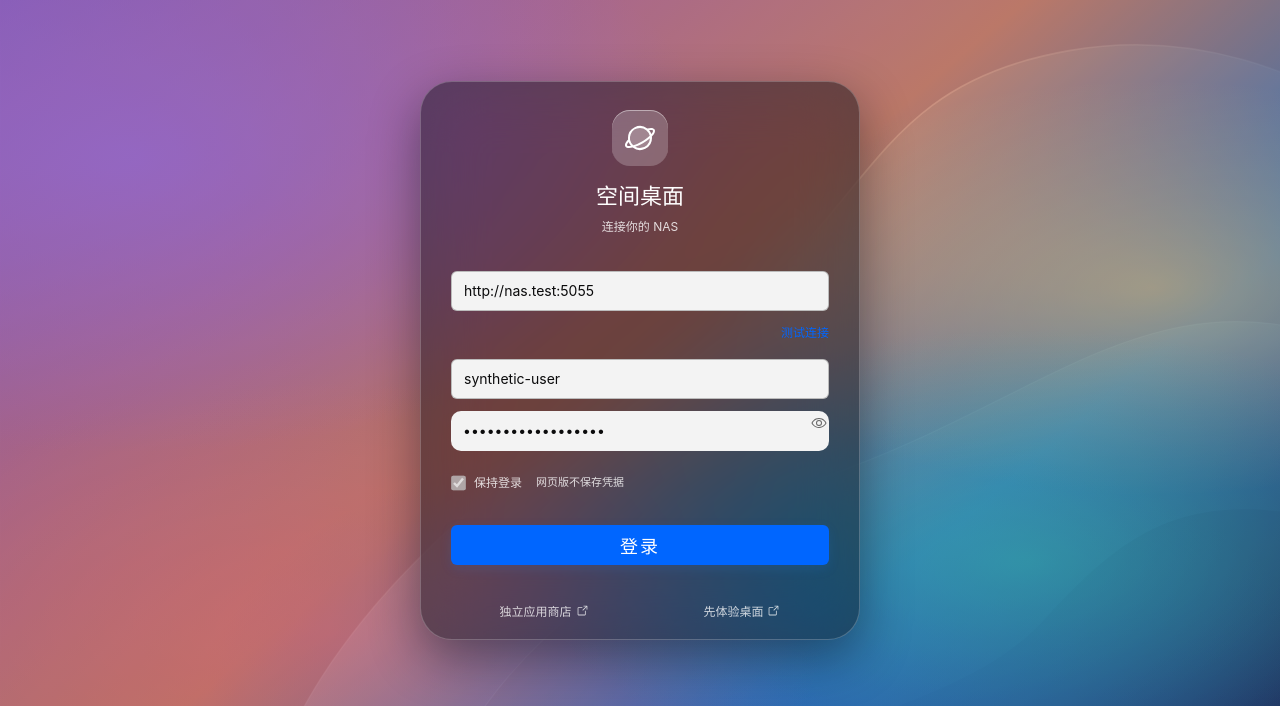
Test case: clears verification when account or device changes and ignores stale replies
Click the button "登录": (640, 544) top-left (451, 524), bottom-right (829, 564)
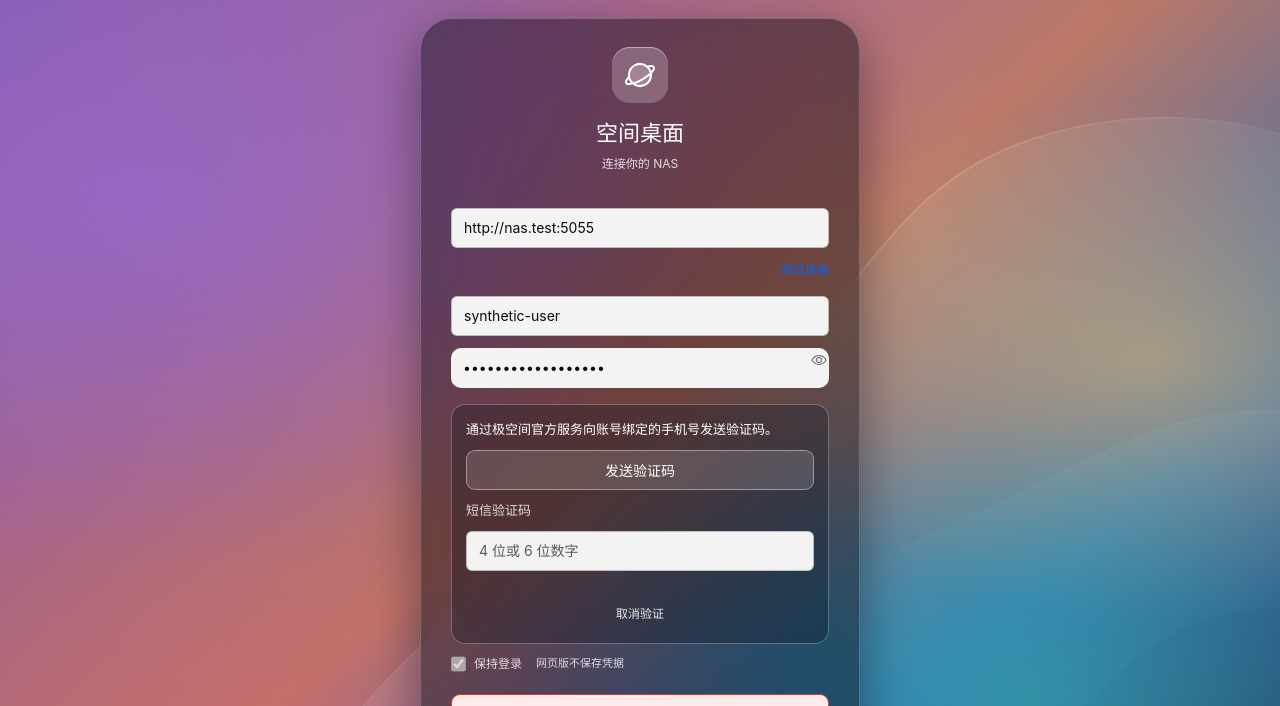
Expected: the button "发送验证码" is shown
Click the button "发送验证码": (640, 470) top-left (466, 450), bottom-right (814, 490)
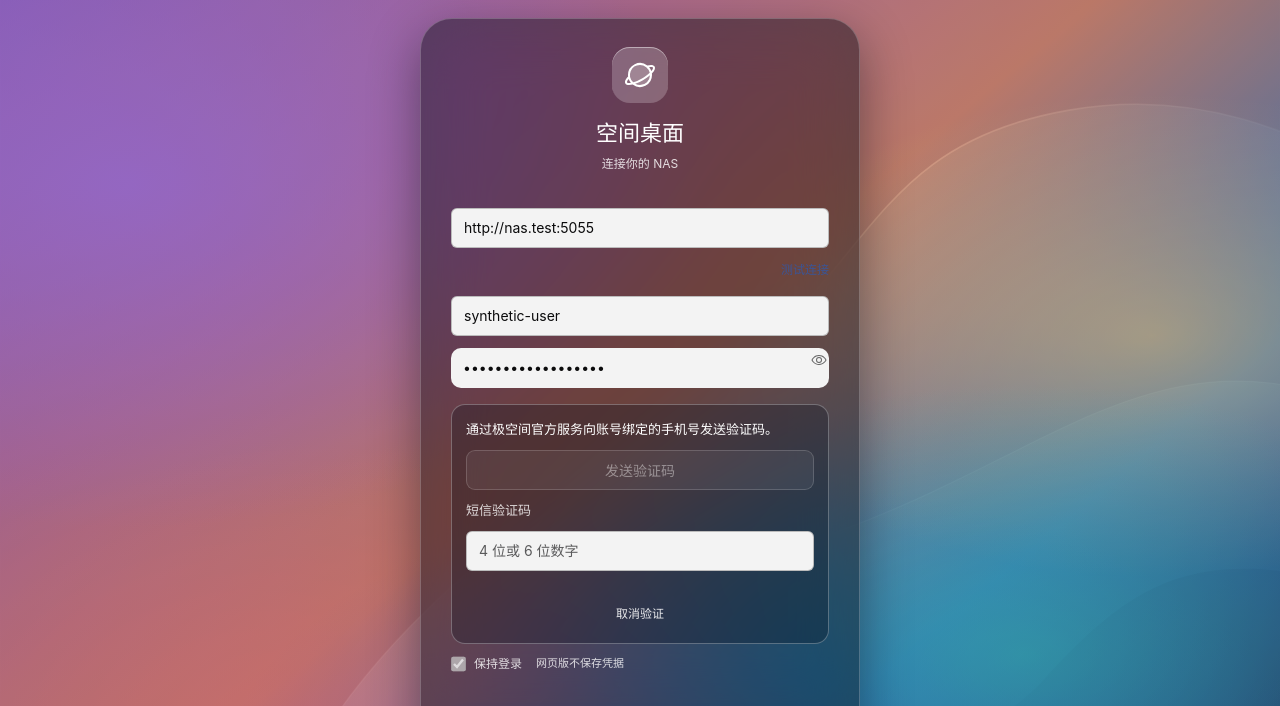
Replace the text in the 2nd field named "账号" with "other-user": (640, 316) top-left (451, 296), bottom-right (829, 336)
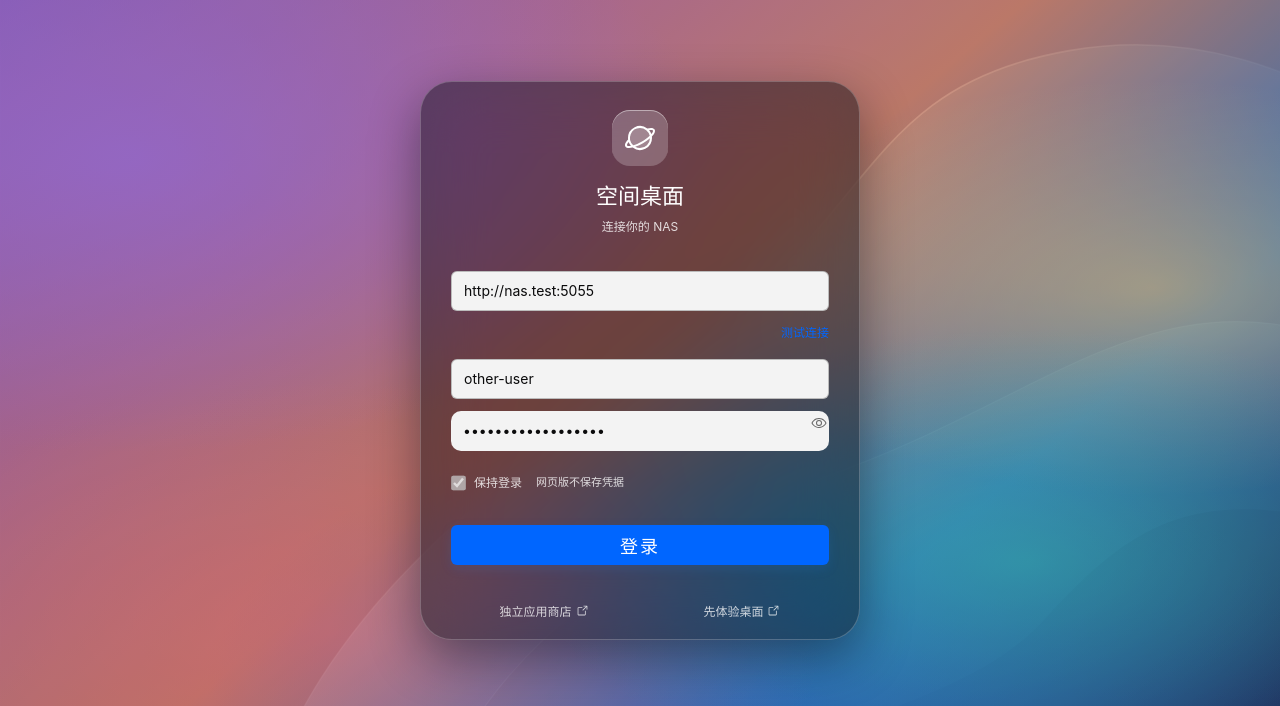
Expected: the text labelled "短信验证码" is gone
